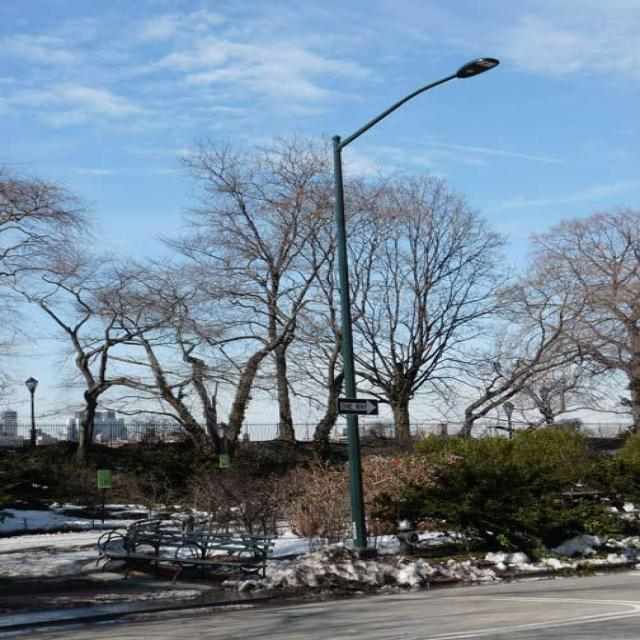off: (305, 0, 544, 200)
